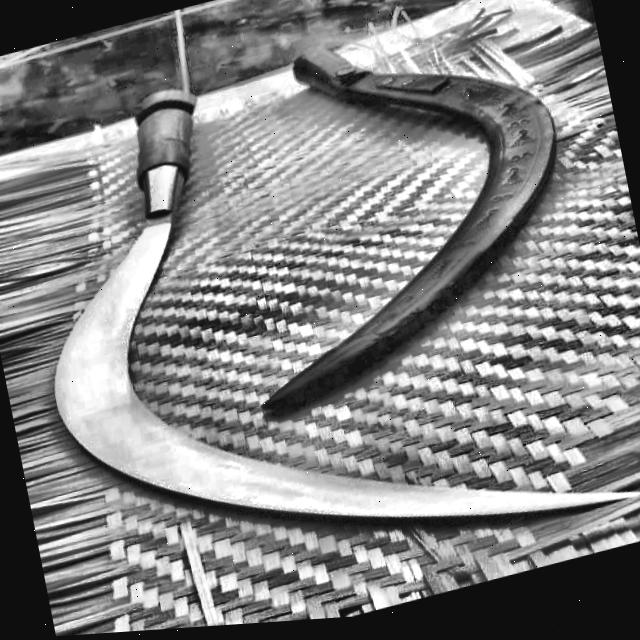celurit: (33, 79, 640, 529)
